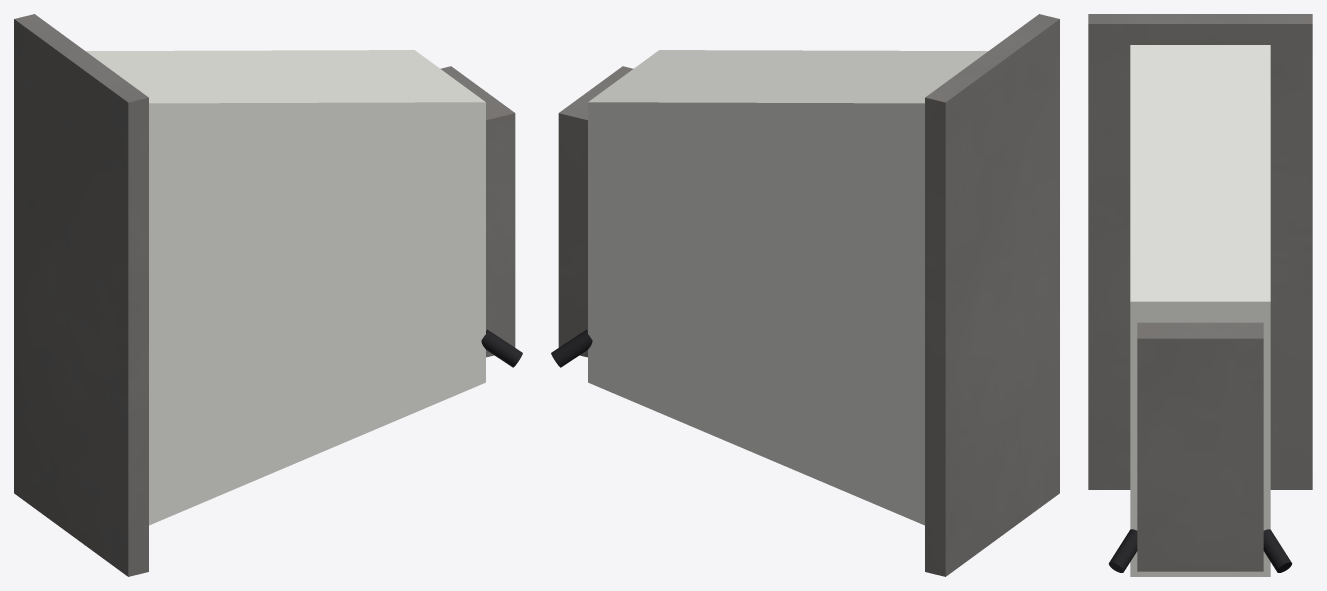
The model's file is struct04_radial_pylon_s.glb.
3 views of the same model, side by side, from view 1: azimuth 30°, elevation 25°; view 2: azimuth 150°, elevation 25°; view 3: azimuth 270°, elevation 25° (orthographic).
Parts seen in each view (by area): view 1: pylon, mount_plate, hardpoint, sway_braces; view 2: pylon, mount_plate, hardpoint, sway_braces; view 3: mount_plate, pylon, hardpoint, sway_braces.
Boxes of the visible parts, x1,y1,x2,y2 form: pylon: (85,50,485,525); mount_plate: (14,14,148,576); hardpoint: (440,66,515,357); sway_braces: (481,329,522,367); pylon: (588,50,988,525); mount_plate: (925,14,1059,576); hardpoint: (558,66,633,357); sway_braces: (551,329,592,367); mount_plate: (1088,14,1312,489); pylon: (1130,45,1270,576); hardpoint: (1137,322,1263,571); sway_braces: (1108,529,1292,572).
Size of the model in its own units: 0.6 by 0.66 by 0.288.
3 materials, 1 textured.
